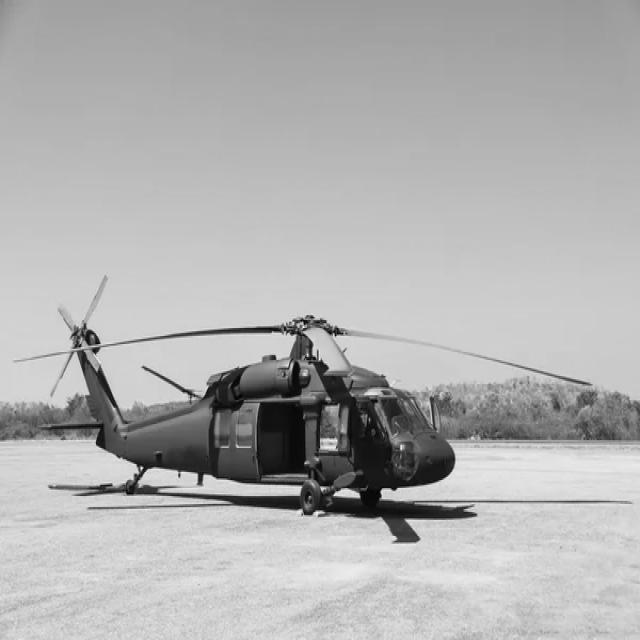Helicopter: (49, 278, 594, 514)
